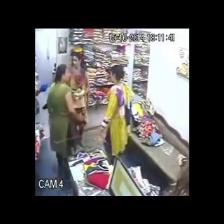person: (47, 65, 83, 178), (96, 66, 133, 163), (70, 53, 89, 156), (169, 161, 188, 195)
